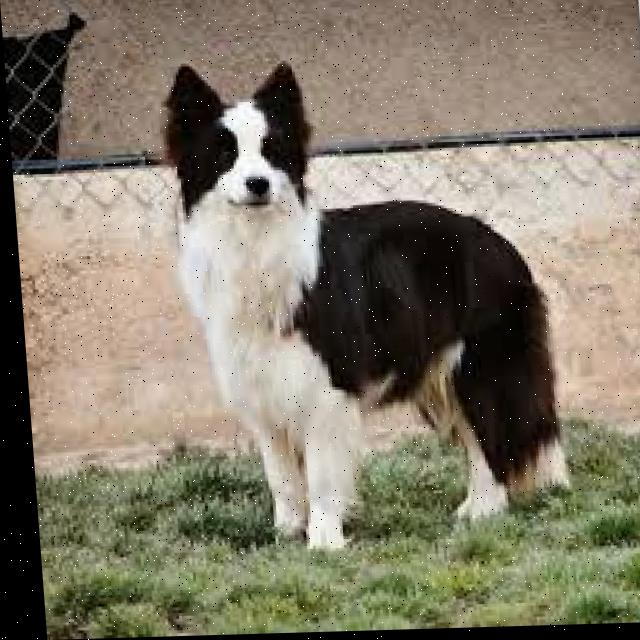BORDER_COLLIE: (145, 48, 583, 548)
